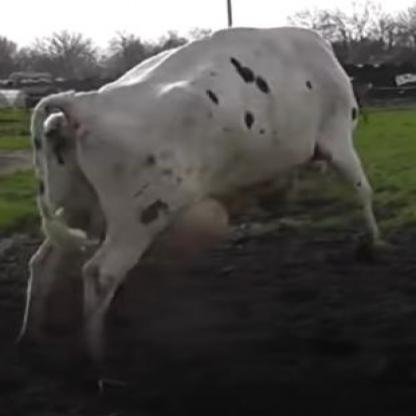cow: (21, 27, 386, 378)
